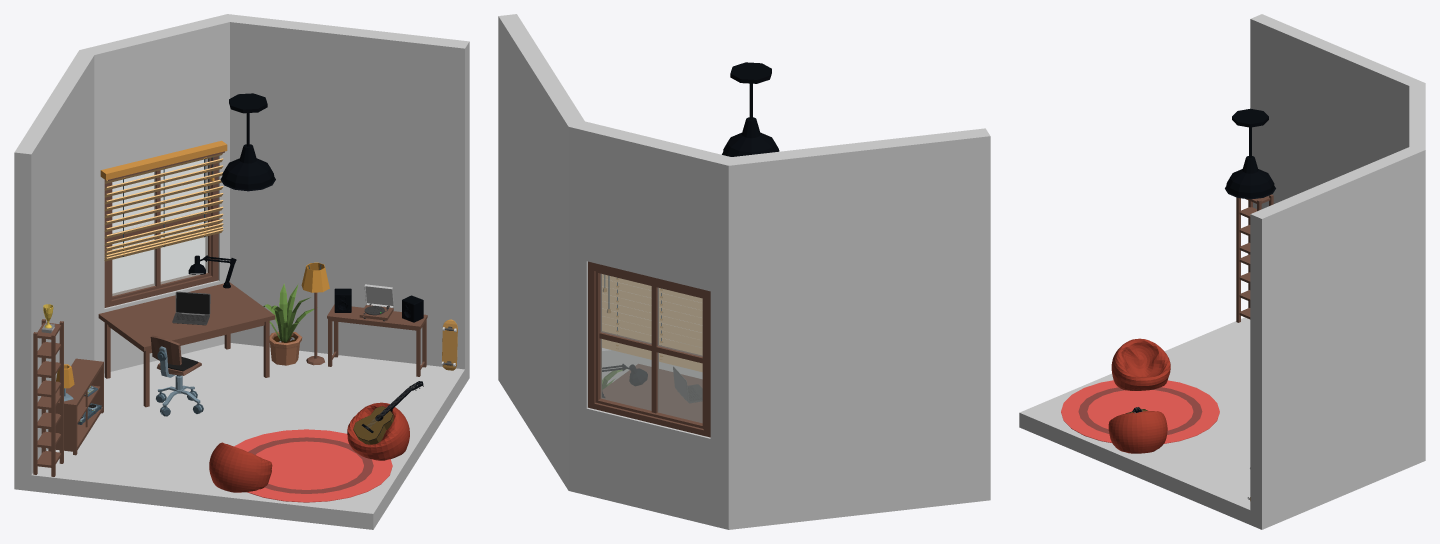
Rendered from homeoffice.glb.
The picture shows the model from 3 angles, left to right: view 1: azimuth 30°, elevation 25°; view 2: azimuth 150°, elevation 25°; view 3: azimuth 270°, elevation 25°; orthographic projection. The views are drawn at different scales.
Parts seen in each view (by area): view 1: Walls, Window, Blinds, Rug, Table, BookCase, Cabinet, CeilingLampBottom, Binbag2, SideTable, Plant, Binbag1 (+9 smaller); view 2: Walls, Window, Blinds, Table, CeilingLampBottom; view 3: Walls, Rug, Binbag2, Binbag1, CeilingLampBottom, BookCase.
Boxes of the visible parts, left/top/right/bottom form: Walls: left=14, top=14, right=469, bottom=529; Window: left=104, top=156, right=218, bottom=307; Blinds: left=100, top=140, right=227, bottom=261; Rug: left=234, top=429, right=392, bottom=502; Table: left=98, top=282, right=275, bottom=407; BookCase: left=33, top=319, right=63, bottom=476; Cabinet: left=48, top=358, right=103, bottom=455; CeilingLampBottom: left=220, top=93, right=275, bottom=191; Binbag2: left=209, top=442, right=272, bottom=492; SideTable: left=327, top=304, right=427, bottom=376; Plant: left=263, top=283, right=317, bottom=365; Binbag1: left=347, top=402, right=409, bottom=460; Walls: left=498, top=14, right=990, bottom=529; Window: left=588, top=261, right=710, bottom=437; Blinds: left=602, top=274, right=702, bottom=371; Table: left=602, top=364, right=702, bottom=421; CeilingLampBottom: left=722, top=62, right=779, bottom=156; Walls: left=1019, top=14, right=1425, bottom=529; Rug: left=1061, top=380, right=1219, bottom=443; Binbag2: left=1111, top=338, right=1170, bottom=390; Binbag1: left=1108, top=411, right=1167, bottom=453; CeilingLampBottom: left=1225, top=108, right=1275, bottom=199; BookCase: left=1236, top=194, right=1273, bottom=322.
Size of the model in its own units: 5.94 by 4.2 by 4.97.
66 materials, 3 textured.
